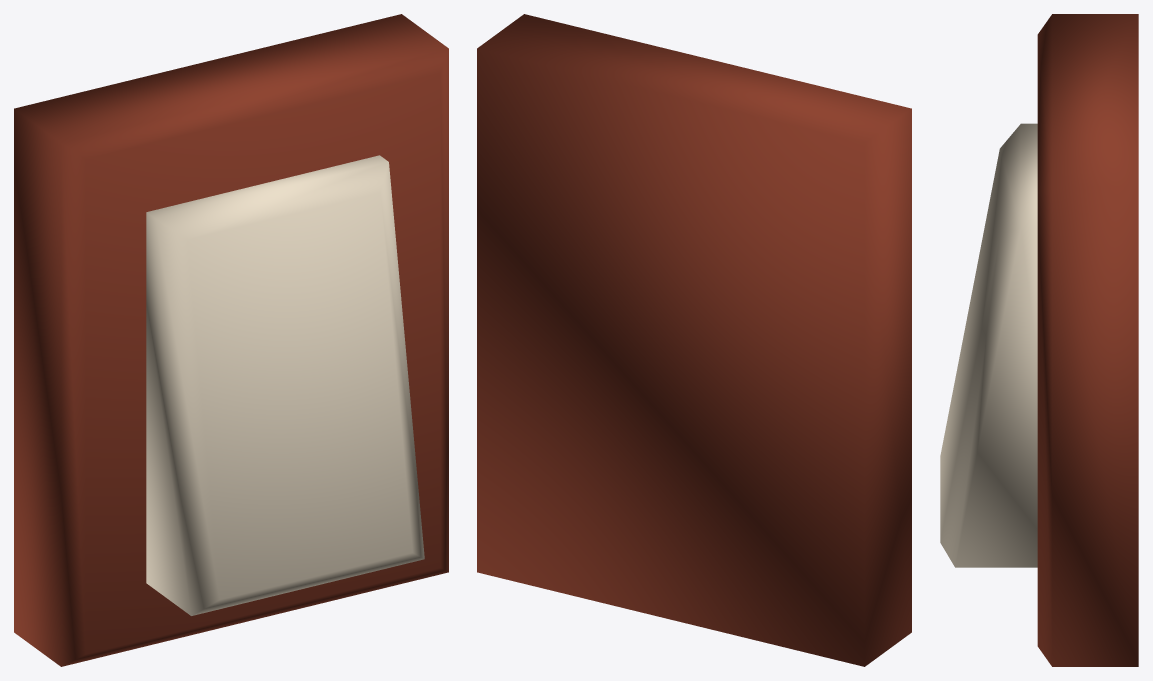
The model's file is props_switch.fbx.
3 renders of one model, left to right at view 1: azimuth 30°, elevation 25°; view 2: azimuth 150°, elevation 25°; view 3: azimuth 270°, elevation 25°, orthographic. The views are drawn at different scales.
Parts seen in each view (by area): view 1: Cube.004; view 2: Cube.004; view 3: Cube.004.
Part boxes in pixels (x1,y1,x2,y2): Cube.004: (14,14,448,666); Cube.004: (477,14,911,666); Cube.004: (940,14,1138,666).
Bounding box in the file's own units: 0.2253 × 0.109 × 0.2908.
